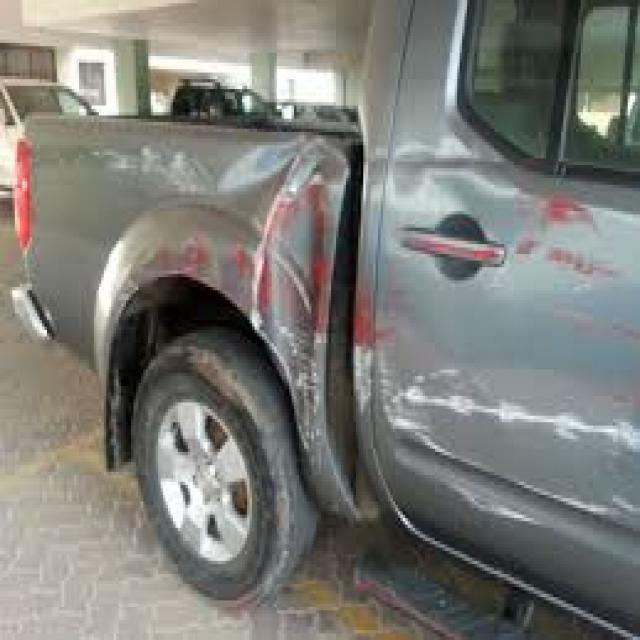moderate: (111, 127, 613, 522)
